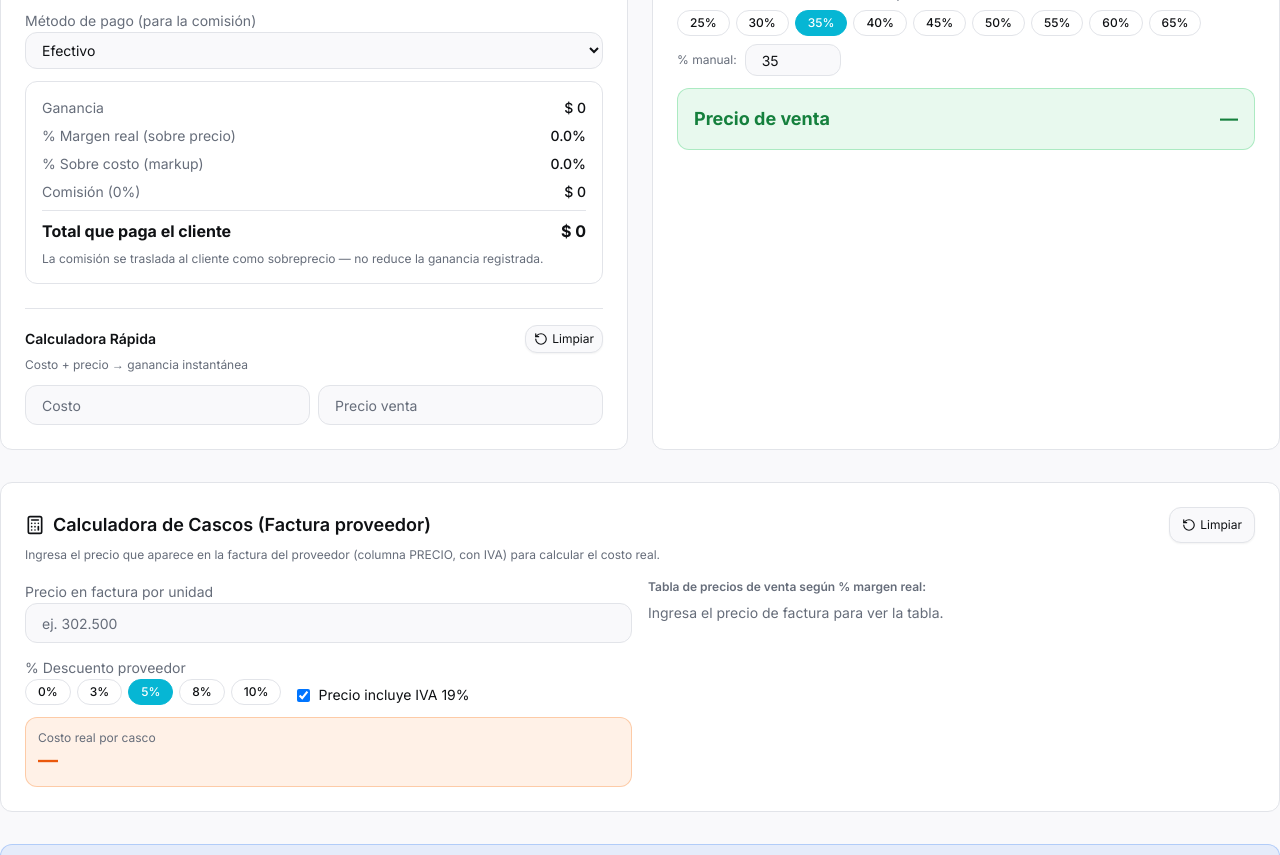
Calculadora — Calculadora Rápida › muestra la ganancia instantánea cuando el precio supera el costo
(page scrolled)
In the field with placeholder "Costo": (168, 405) [25,385,310,425], type "80000"
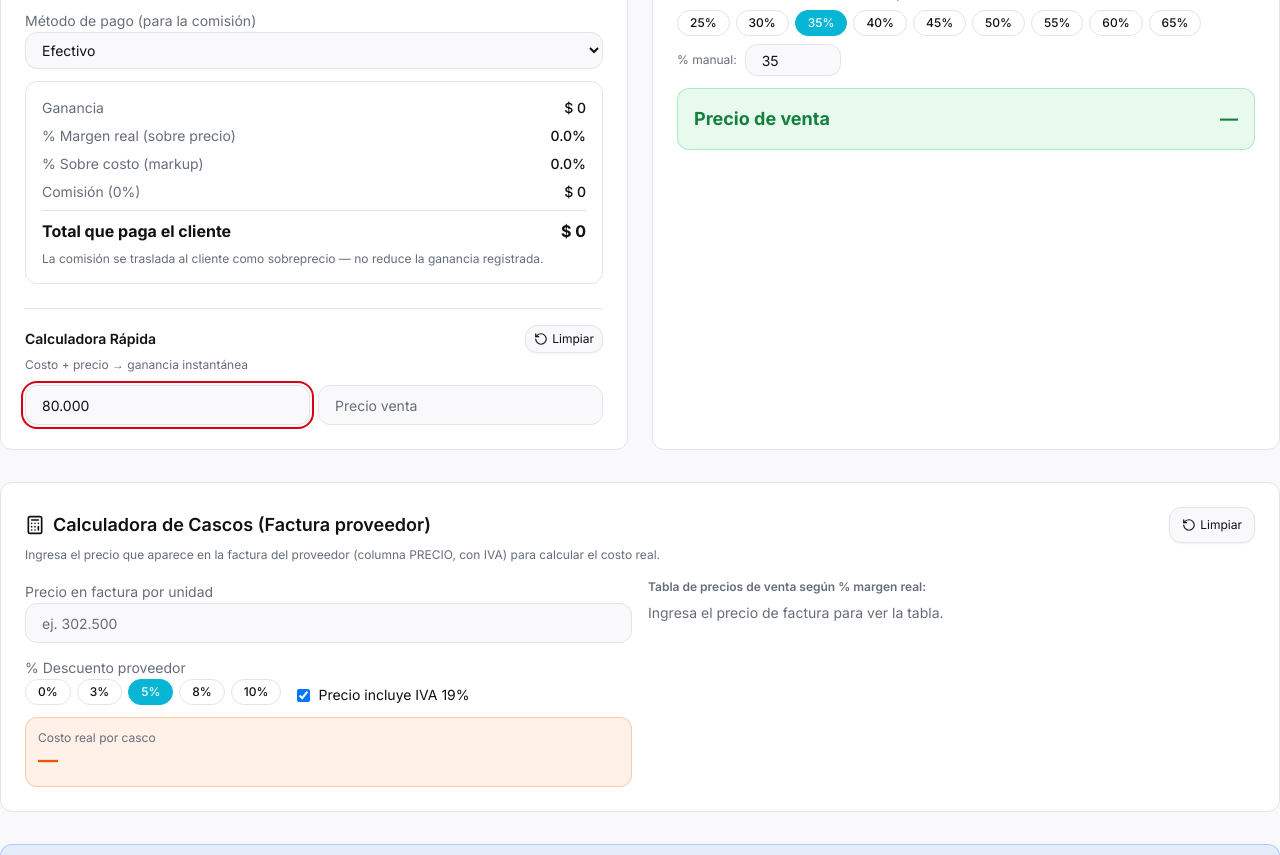
In the field with placeholder "Precio venta": (460, 405) [318,385,603,425], type "100000"
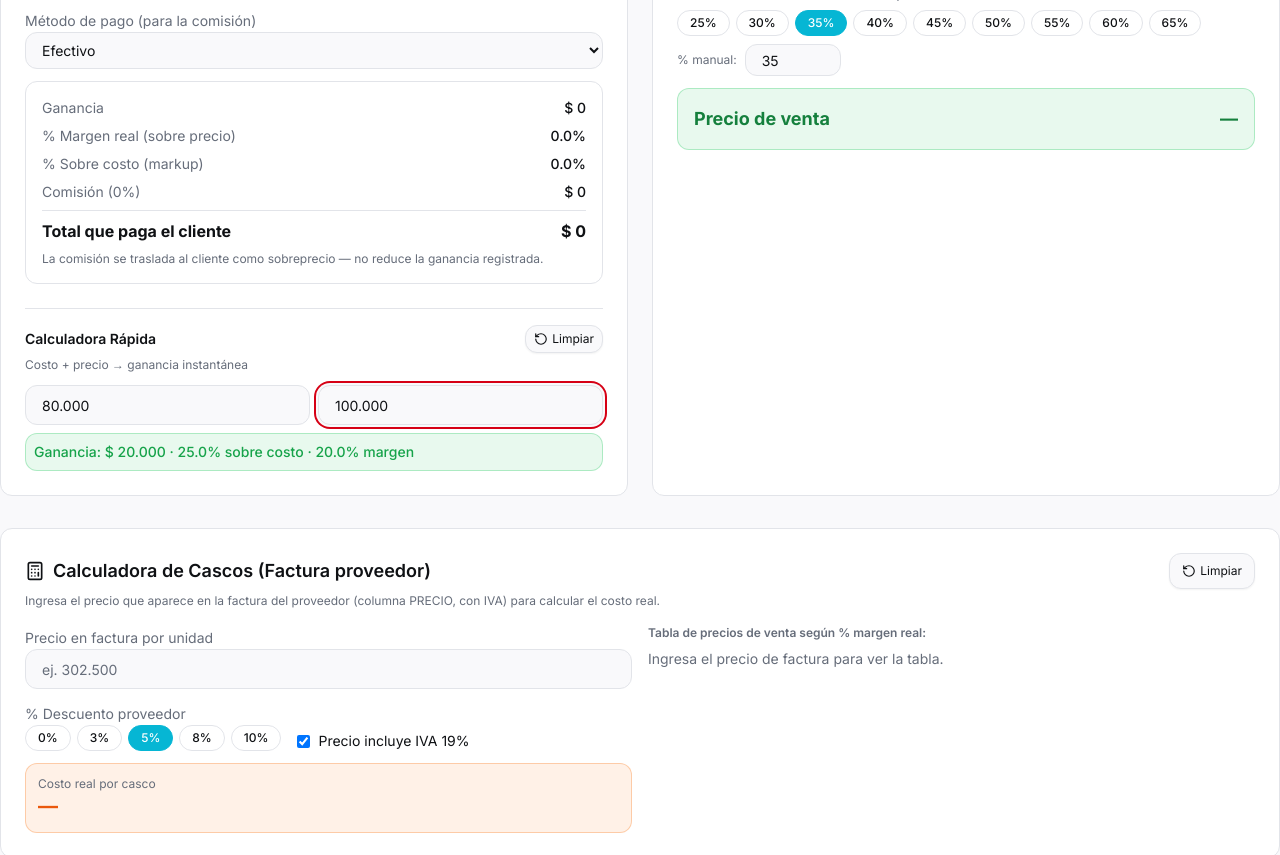
Expected: the text "Ganancia: $ 20.000 · 25.0% sobre costo · 20.0% margen" is shown, [25,433,603,471]
